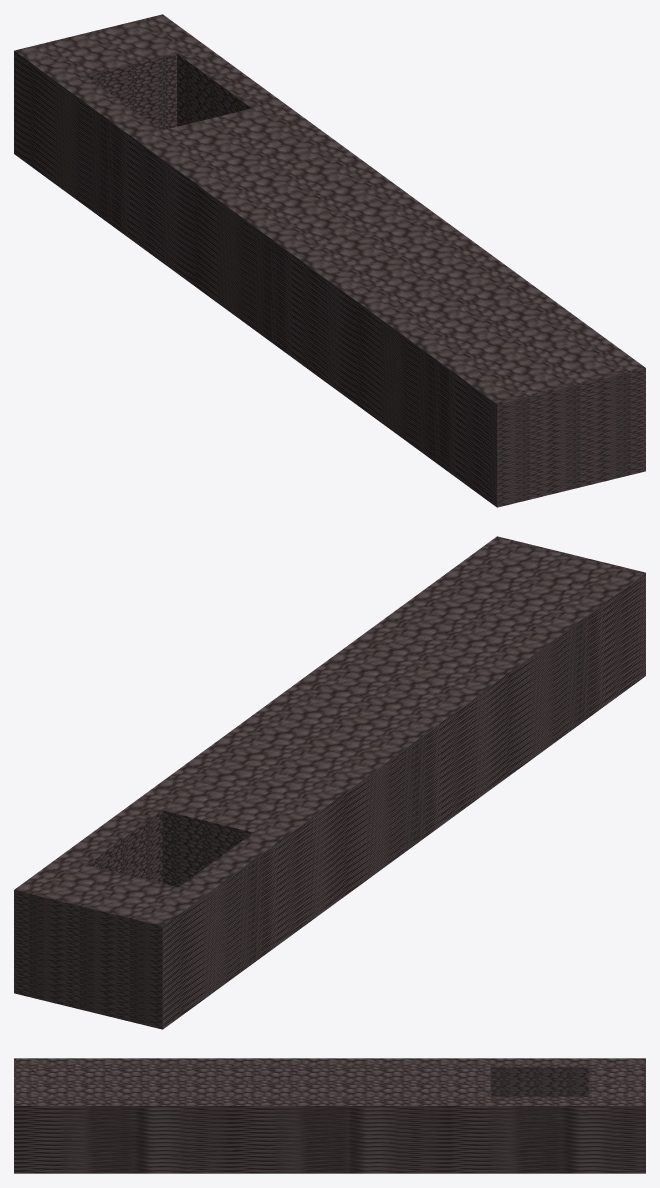
Rendered from Floor1.fbx.
3 renders of one model, top to bottom at view 1: azimuth 30°, elevation 25°; view 2: azimuth 150°, elevation 25°; view 3: azimuth 270°, elevation 25°, orthographic. The views are drawn at different scales.
Parts seen in each view (by area): view 1: pCube3; view 2: pCube3; view 3: pCube3.
Boxes of the visible parts, bbox=[...] form: pCube3: bbox=[14, 14, 645, 507]; pCube3: bbox=[14, 536, 645, 1029]; pCube3: bbox=[14, 1058, 645, 1173].
Size of the model in its own units: 6.34 by 4.21 by 35.67.
